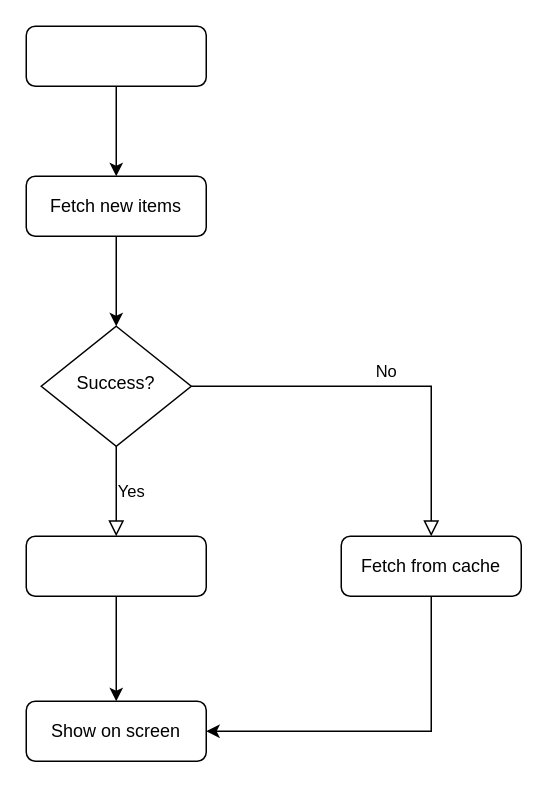
Some shapes in this 548 by 788 pixel diagram are drawn without their labels. Here are the shapes that lost their labels. From the top down, the centre of each, then its label:
the point at 115,55: Show movie screen
the point at 115,565: Save
